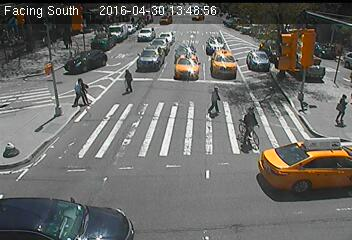neg: (230, 102, 265, 149), (289, 19, 315, 54), (4, 43, 28, 75), (12, 127, 35, 156), (165, 121, 186, 148), (197, 2, 216, 27), (112, 148, 130, 173), (289, 64, 307, 88), (76, 208, 93, 232), (228, 189, 245, 211), (280, 191, 296, 212), (187, 162, 202, 183), (289, 146, 304, 166), (95, 31, 110, 51), (175, 68, 190, 88), (251, 51, 265, 70), (214, 56, 227, 74), (179, 36, 191, 52), (49, 6, 59, 20)
pos: (67, 74, 90, 105), (330, 93, 351, 124), (204, 87, 225, 115), (118, 67, 139, 95), (59, 29, 75, 51)
